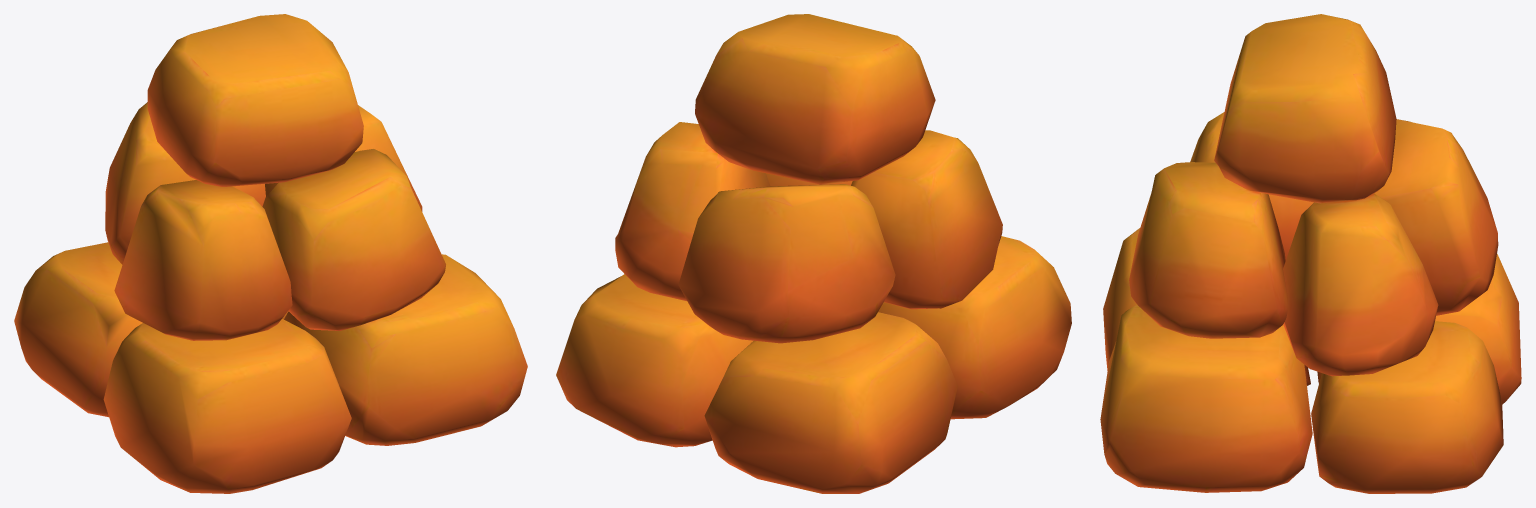
File: rock_pile_lo.glb
3 renders of one model, left to right at view 1: azimuth 30°, elevation 25°; view 2: azimuth 150°, elevation 25°; view 3: azimuth 270°, elevation 25°, orthographic. The views are drawn at different scales.
Visible parts, largest first — view 1: tripo_node_11cfeeee-acb9-471e-92cd-9c2479d34e6f; view 2: tripo_node_11cfeeee-acb9-471e-92cd-9c2479d34e6f; view 3: tripo_node_11cfeeee-acb9-471e-92cd-9c2479d34e6f.
Boxes of the visible parts, x1=… form: tripo_node_11cfeeee-acb9-471e-92cd-9c2479d34e6f: x1=14, y1=14, x2=527, y2=493; tripo_node_11cfeeee-acb9-471e-92cd-9c2479d34e6f: x1=556, y1=14, x2=1071, y2=493; tripo_node_11cfeeee-acb9-471e-92cd-9c2479d34e6f: x1=1100, y1=14, x2=1521, y2=493.
Size of the model in its own units: 3.58 by 3.49 by 3.6.
1 material, 1 textured.
